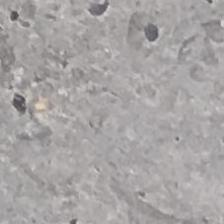Non_Crack: (14, 61, 222, 208)
